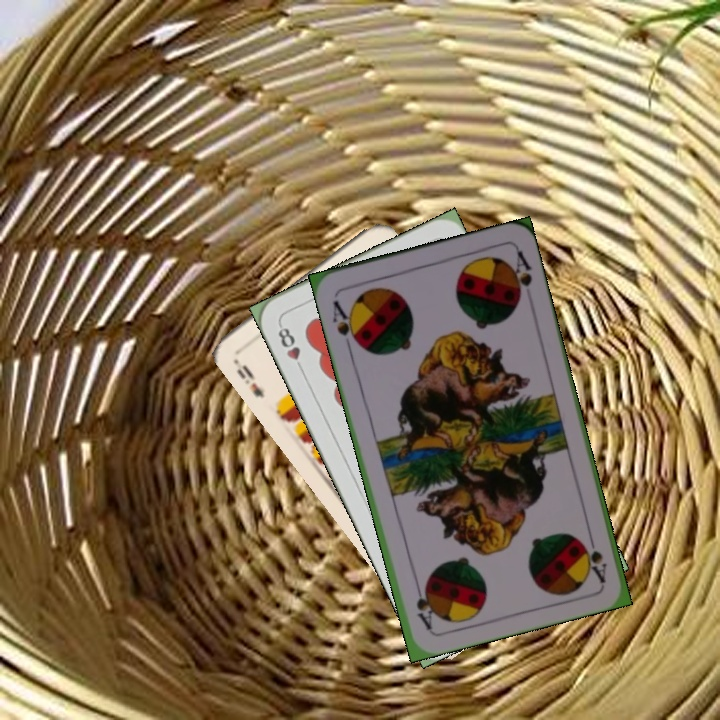E9: (232, 360, 267, 401)
H8: (274, 320, 307, 375)
SA: (328, 296, 362, 352), (579, 527, 610, 585)
